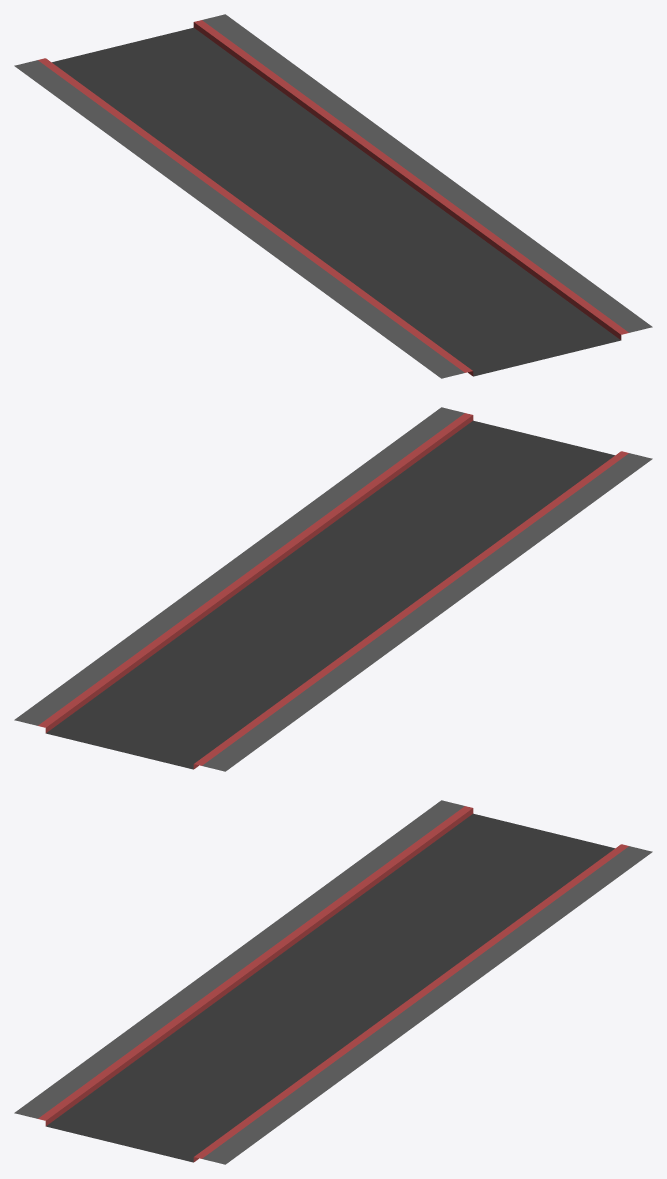
Rendered from SM_road.FBX.
The picture shows the model from 3 angles, top to bottom: view 1: azimuth 30°, elevation 25°; view 2: azimuth 150°, elevation 25°; view 3: azimuth 330°, elevation 25°; orthographic projection.
Visible parts, largest first — view 1: SM_road_new; view 2: SM_road_new; view 3: SM_road_new.
Part boxes in pixels (bbox=[...]): SM_road_new: bbox=[14, 14, 652, 378]; SM_road_new: bbox=[14, 407, 652, 771]; SM_road_new: bbox=[14, 800, 652, 1164].
Size of the model in its own units: 1000 by 25.47 by 3500.
